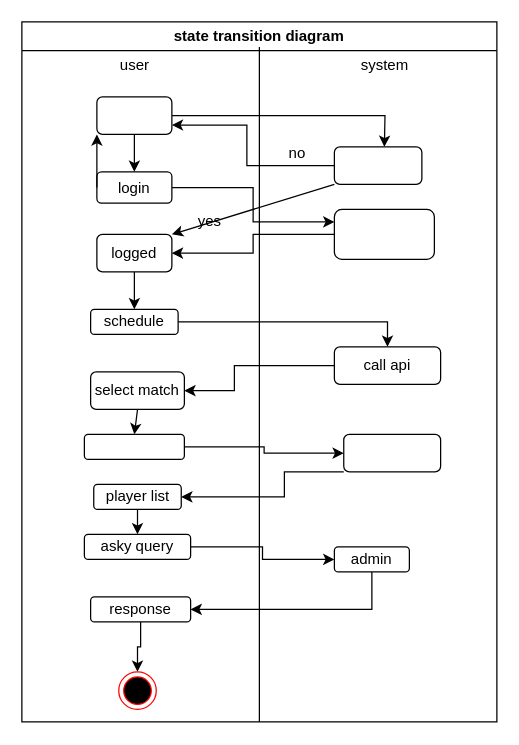
Some shapes in this 519 by 745 pixel diagram are drawn without their labels. Here are the shapes that lost their labels. From the top down, the centre of each, then its label:
At point 134,115: "register".
At point 377,165: "unique username".
At point 383,233: "validate credentials".
At point 133,446: "prediction".
At point 391,452: "ML model".
